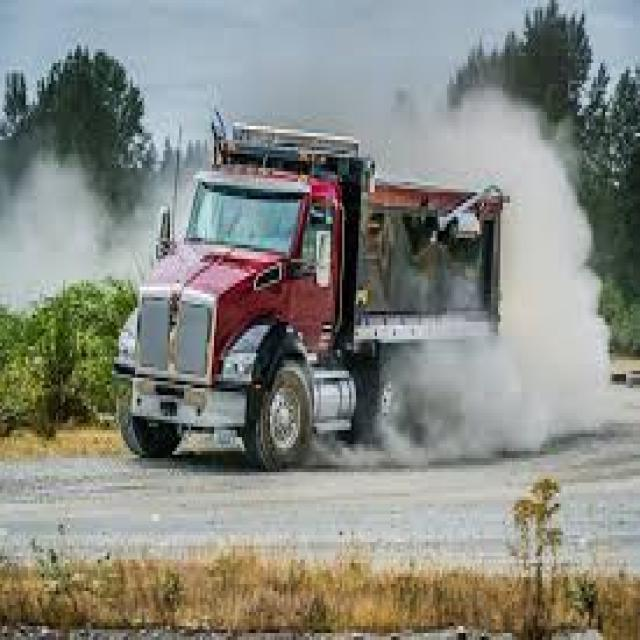smoke: (507, 166, 604, 435), (413, 344, 497, 456), (26, 186, 106, 288)
